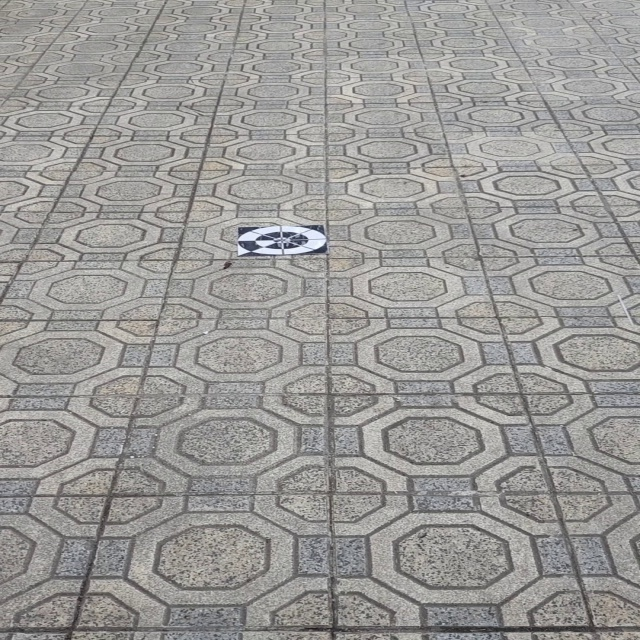landing-zone: (235, 220, 331, 259)
